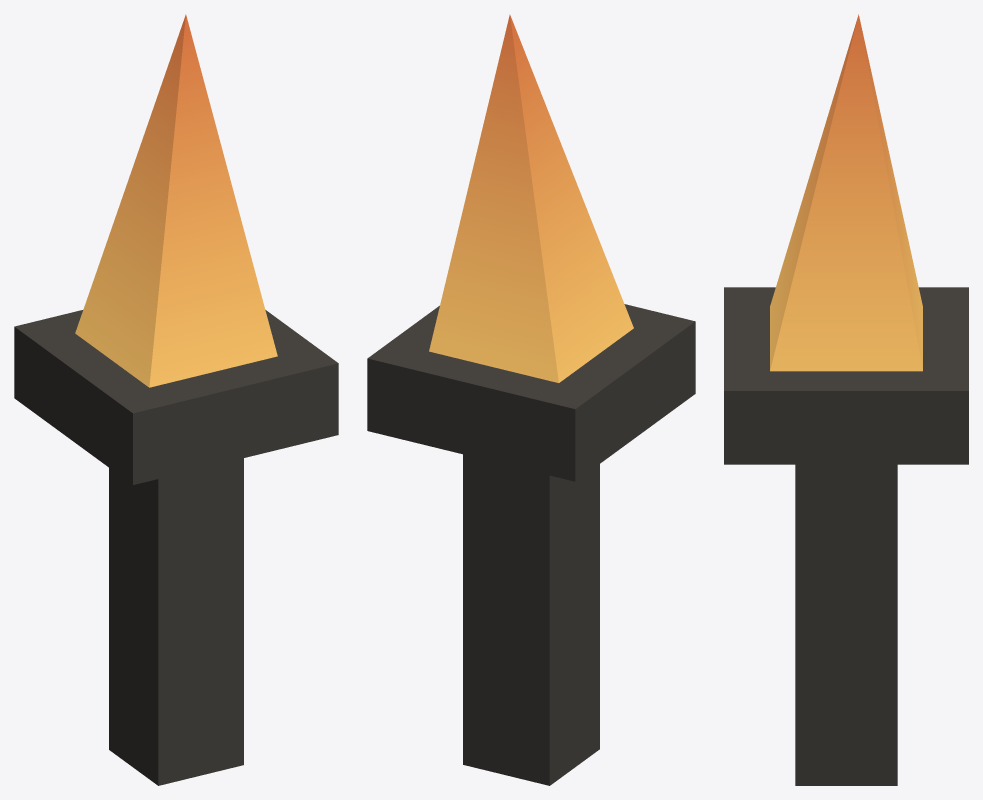
The model's file is tocha_porao.glb.
The picture shows the model from 3 angles, left to right: view 1: azimuth 30°, elevation 25°; view 2: azimuth 150°, elevation 25°; view 3: azimuth 270°, elevation 25°; orthographic projection. The views are drawn at different scales.
Visible parts, largest first — view 1: Malha_0; view 2: Malha_0; view 3: Malha_0.
Boxes of the visible parts, box(x1,y1,x2,y2) form: Malha_0: box(14, 14, 338, 785); Malha_0: box(367, 14, 695, 785); Malha_0: box(724, 14, 968, 785).
Bounding box in the file's own units: 0.24 × 0.82 × 0.24.
